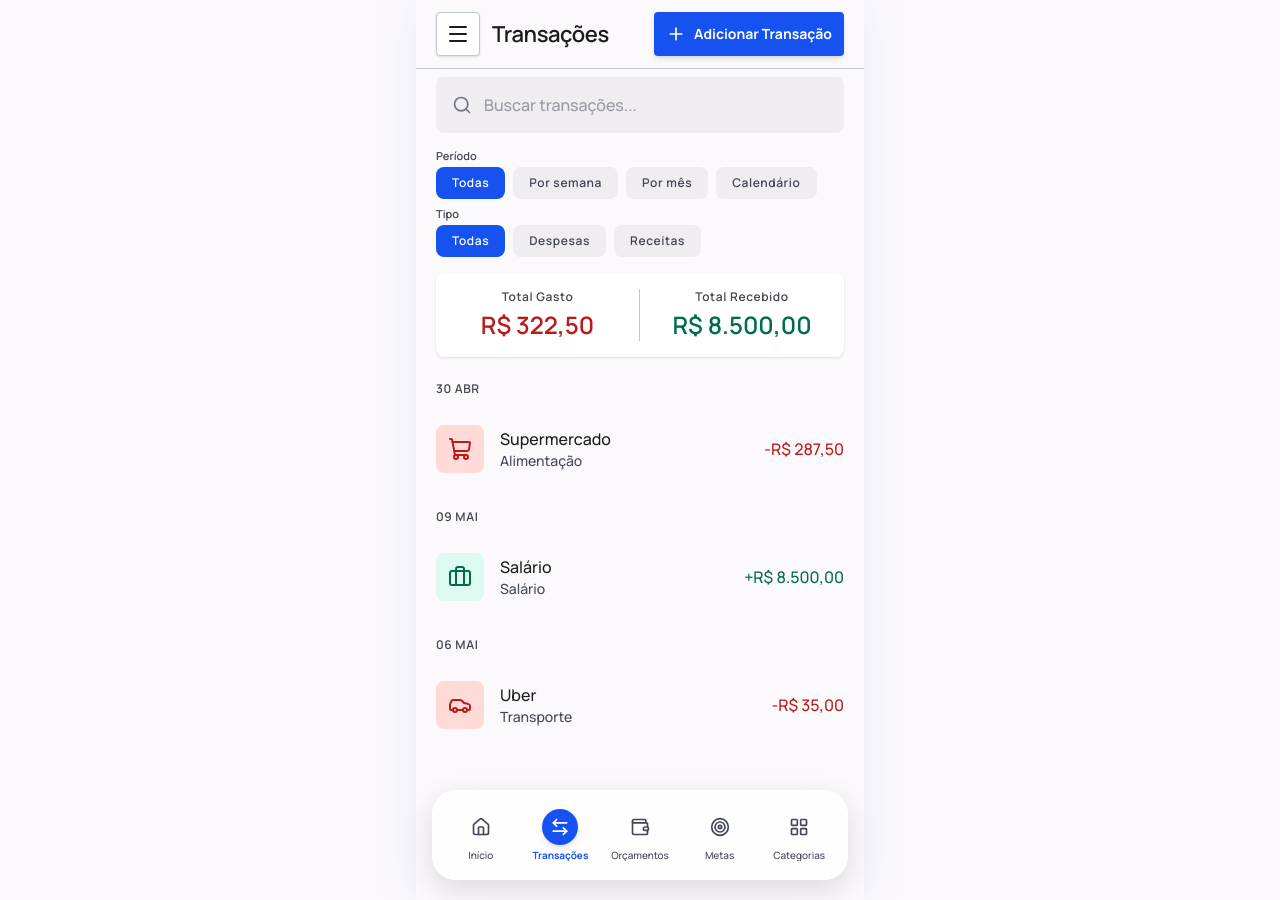
Test: TransacoesClient › abre modal ao clicar em Adicionar Transação
The image size is (1280, 900).
Click the button "Adicionar Transação" at (749, 34), box [654,12,844,56]
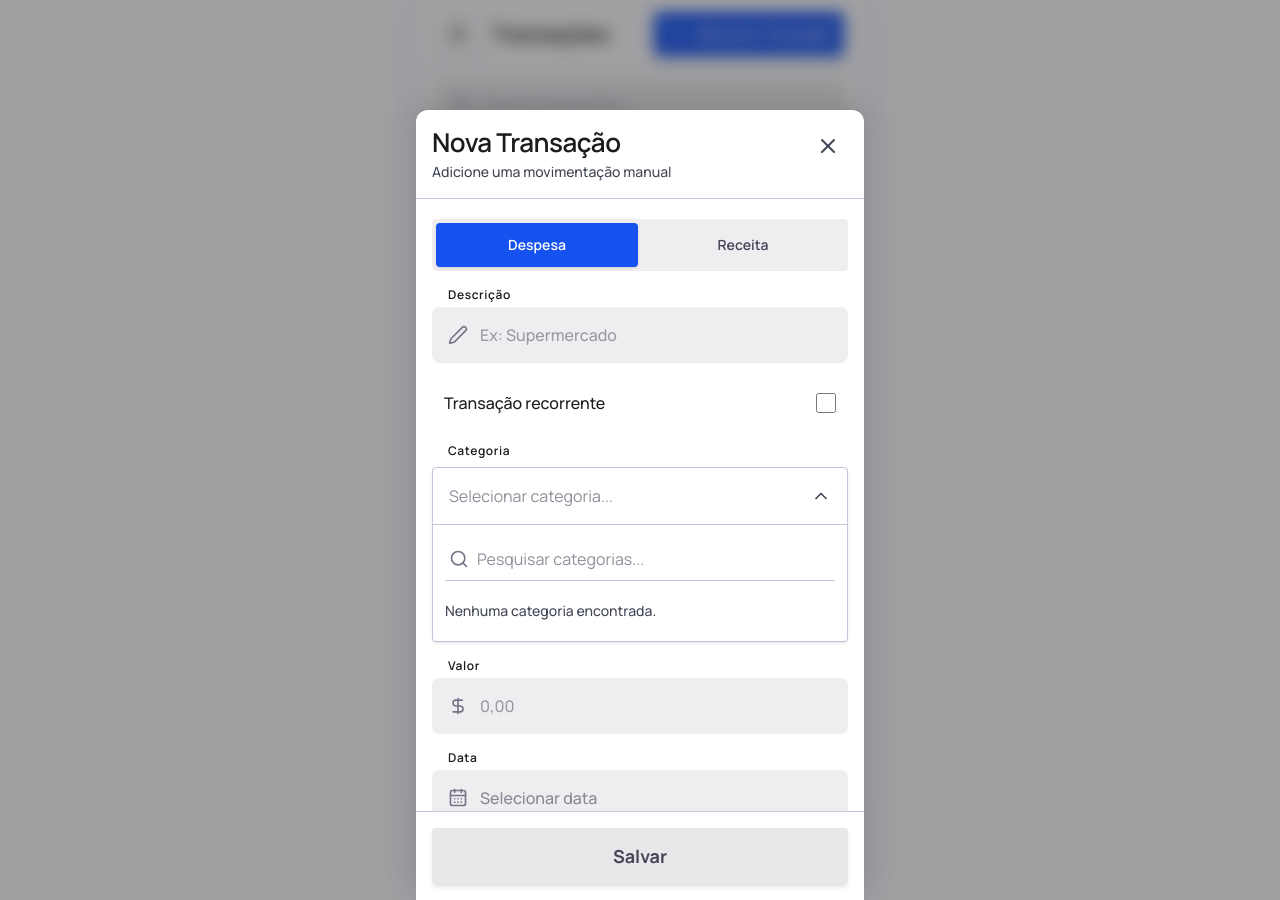
expect the heading "Nova Transação" is shown: met, box [432,124,620,160]
